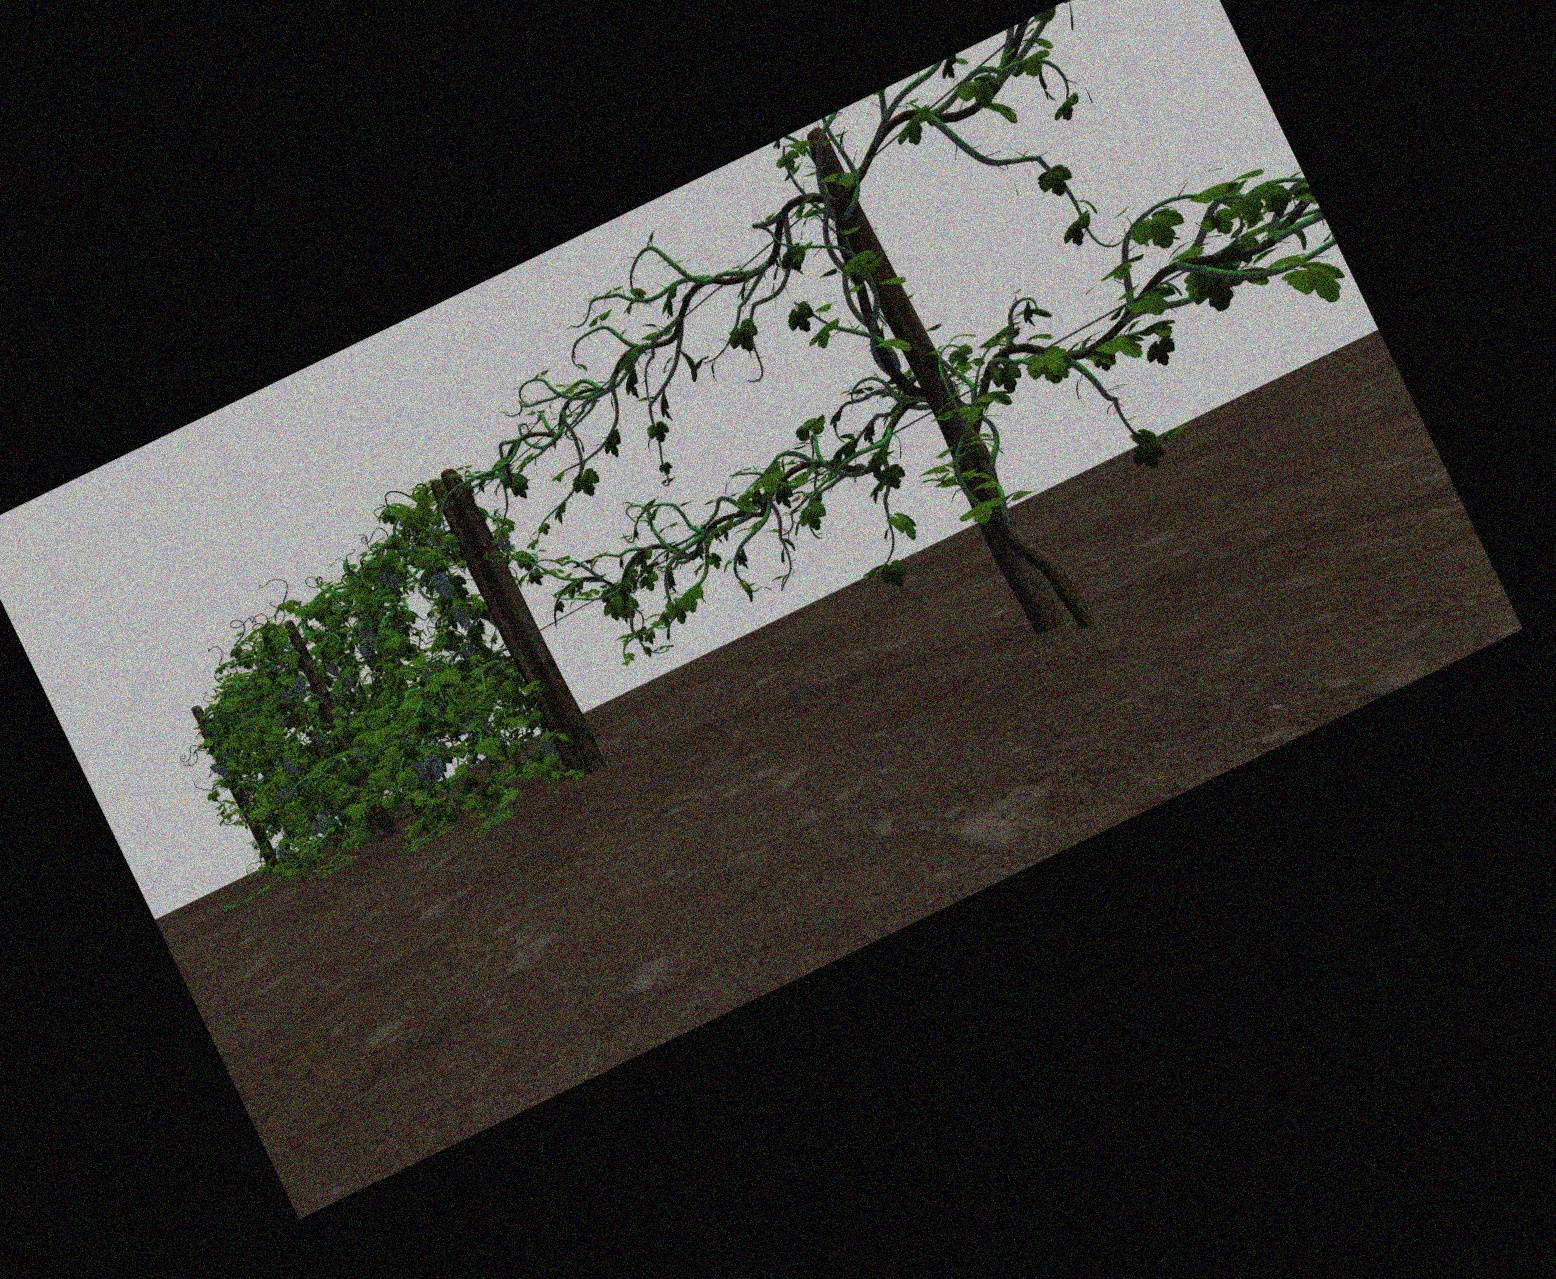grape: (434, 571, 451, 599), (414, 761, 429, 789), (454, 603, 470, 629), (429, 753, 443, 778), (361, 627, 375, 647), (541, 736, 554, 757), (498, 532, 510, 552), (293, 678, 306, 698), (286, 757, 299, 775), (317, 816, 330, 833), (340, 673, 352, 690), (361, 643, 371, 660), (386, 575, 399, 588), (327, 661, 339, 676), (277, 847, 288, 860), (218, 765, 226, 775), (211, 764, 218, 773)
